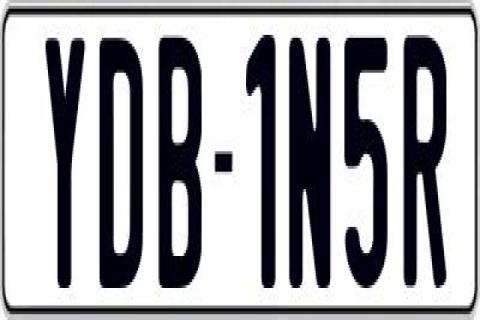0: (341, 32, 389, 300), (242, 27, 274, 280)
B: (155, 29, 201, 285)
D: (99, 32, 143, 296)
N: (286, 32, 326, 296)
R: (402, 32, 450, 296)
Y: (44, 29, 86, 294)
